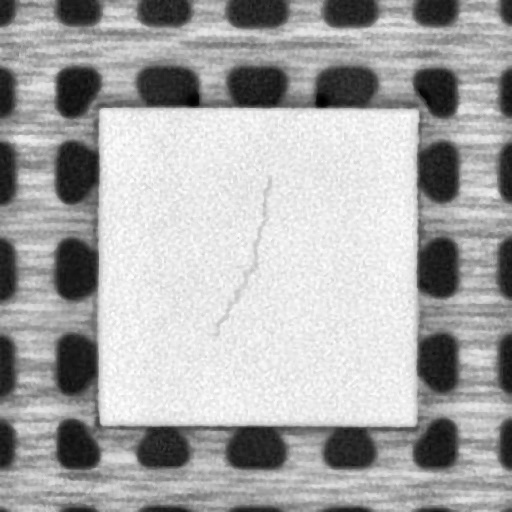DIE_CRACK: (218, 173, 272, 327)
